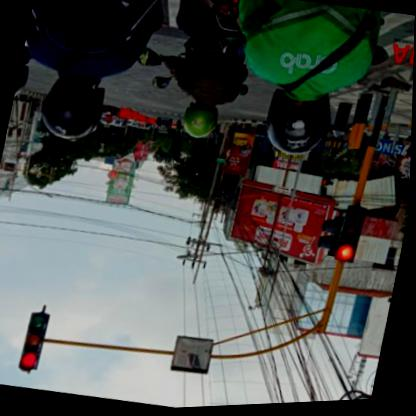red: (18, 307, 55, 377), (339, 206, 368, 265)
